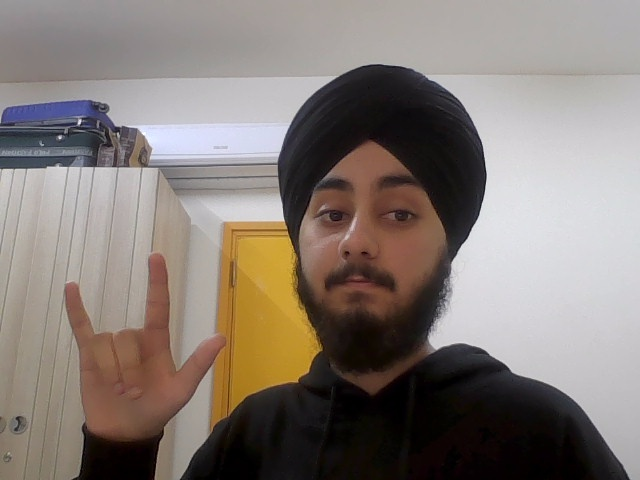ILoveYou: (55, 252, 228, 434)
